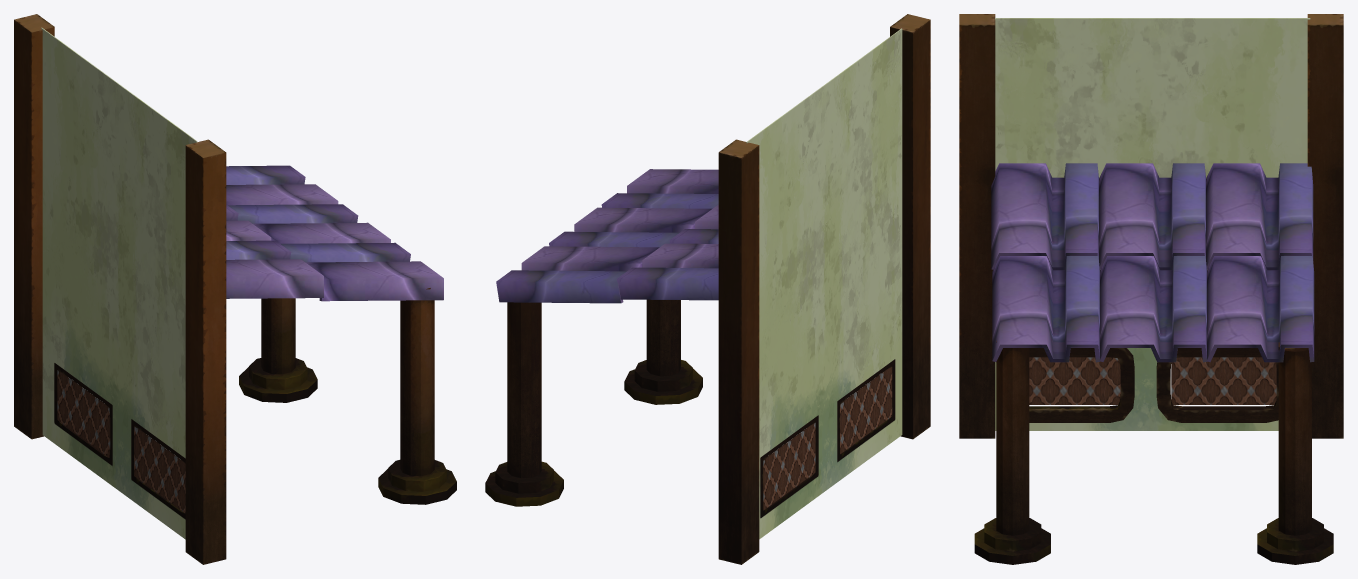
File: Wall_Mini_Roof.fbx
3 views of the same model, side by side, from view 1: azimuth 30°, elevation 25°; view 2: azimuth 150°, elevation 25°; view 3: azimuth 270°, elevation 25° (orthographic).
Parts seen in each view (by area): view 1: Wall_Copy, pCube43, MASH2_ReproMesh2, Piller_1, Piller_2, Curved_Roof; view 2: Wall_Copy, pCube43, MASH2_ReproMesh2, Piller_2, Piller_1, Curved_Roof; view 3: MASH2_ReproMesh2, Wall_Copy, pCube43, Piller_1, Piller_2, Curved_Roof.
Part boxes in pixels (<box>): Wall_Copy: <box>41,27,197,539</box>; pCube43: <box>14,14,226,564</box>; MASH2_ReproMesh2: <box>226,165,443,301</box>; Piller_1: <box>378,288,456,504</box>; Piller_2: <box>239,298,317,402</box>; Curved_Roof: <box>54,363,185,519</box>; Wall_Copy: <box>746,28,902,539</box>; pCube43: <box>718,14,930,564</box>; MASH2_ReproMesh2: <box>496,169,718,303</box>; Piller_2: <box>485,302,563,506</box>; Piller_1: <box>624,299,702,404</box>; Curved_Roof: <box>760,359,895,517</box>; MASH2_ReproMesh2: <box>991,163,1314,362</box>; Wall_Copy: <box>995,18,1310,430</box>; pCube43: <box>959,14,1343,438</box>; Piller_1: <box>974,341,1050,564</box>; Piller_2: <box>1257,342,1333,564</box>; Curved_Roof: <box>1029,348,1278,422</box>.
Bounding box in the file's own units: 32.89 × 46.81 × 39.18.
